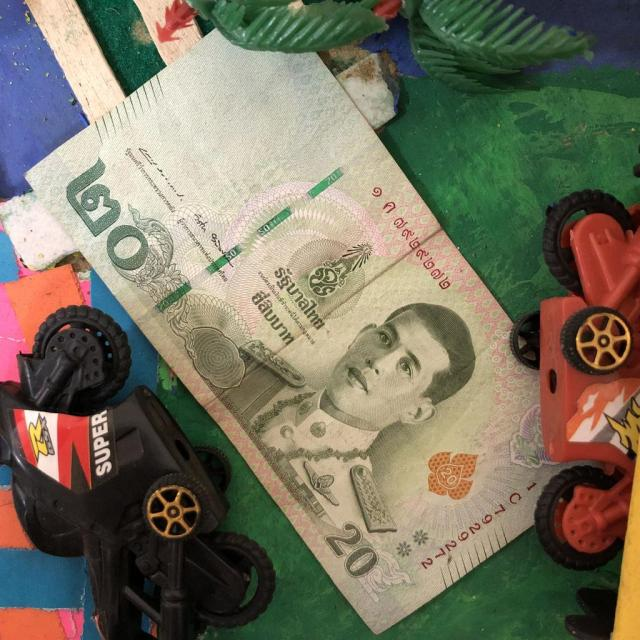THAI20: (27, 31, 579, 632)
